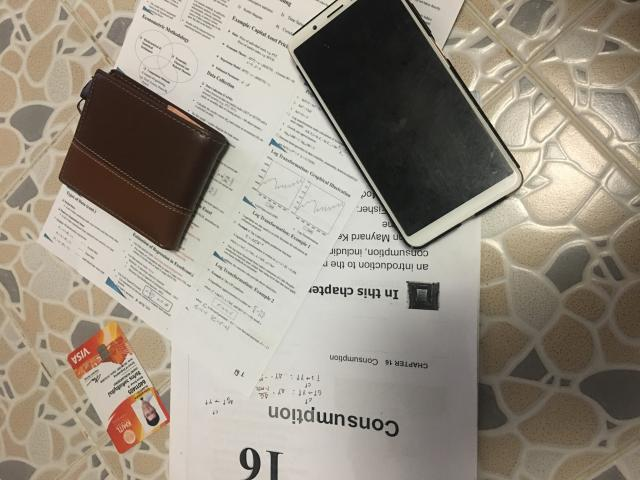Mobile phone: (289, 0, 521, 248)
Wallet: (59, 70, 228, 250)
paper: (40, 0, 460, 395), (170, 84, 480, 479)
